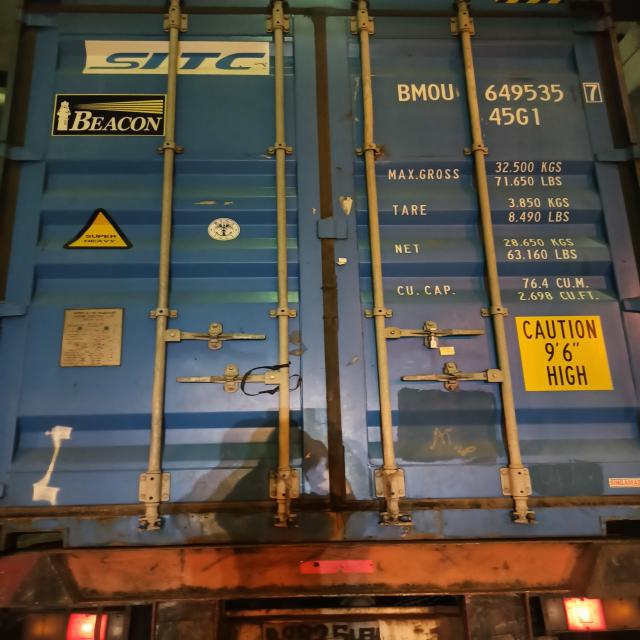seal: (428, 327, 439, 349)
